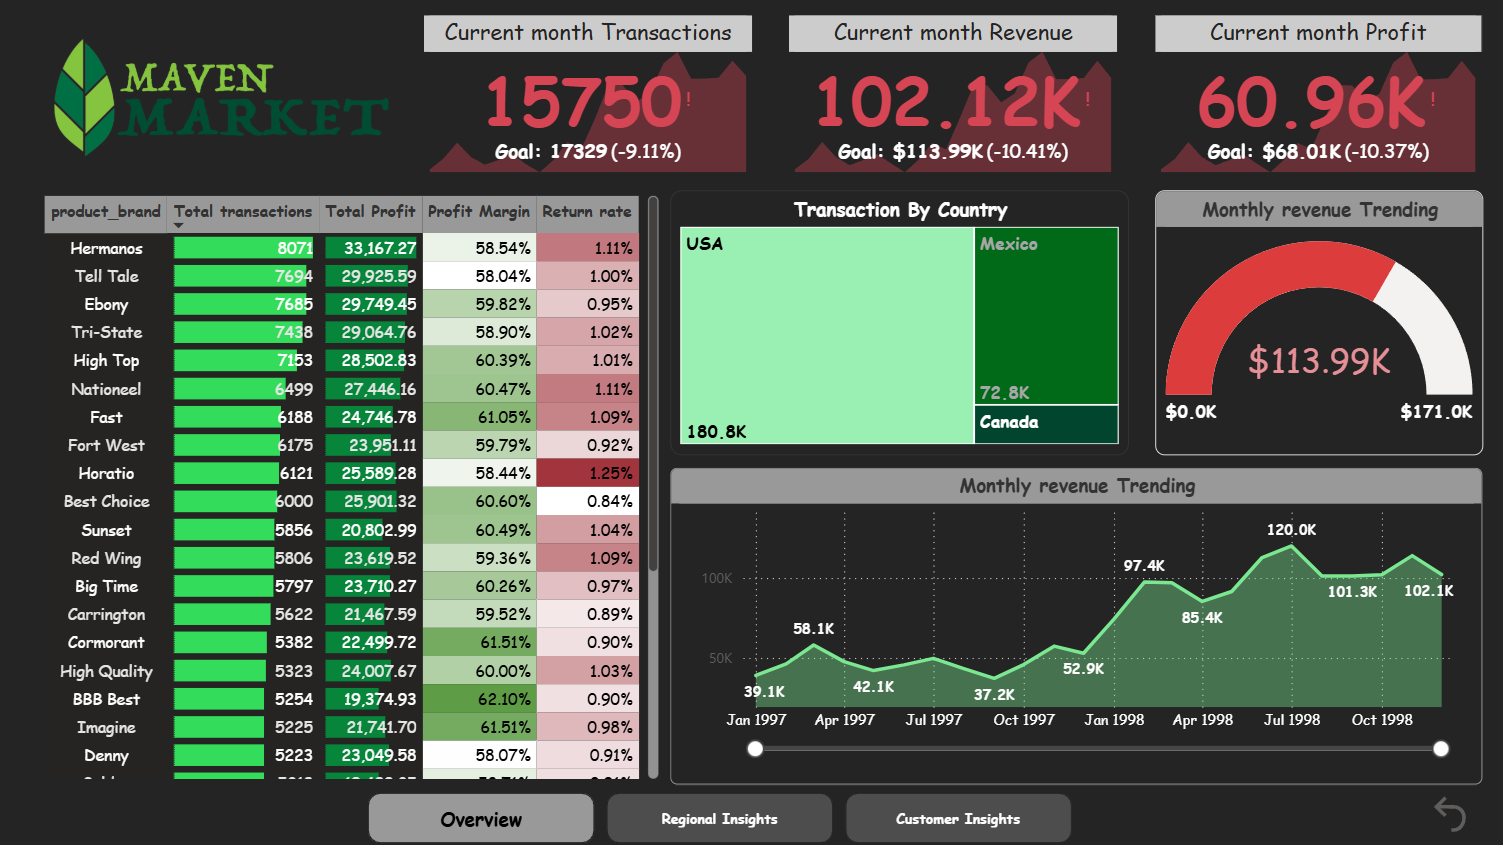

The dashboard page shown, as its layout file describes it:
{"tool":"powerbi","page":{"name":"Overview","canvas":[1280,720],"ordinal":0},"visuals":[{"type":"image","box":[33.8,14.2,307.9,138.8],"z":0},{"type":"kpi","title":"Current month Transactions","fields":{"Indicator":["Measure.Total transactions"],"Goal":["Measure.last month transaction"],"TrendLine":["Calendar.Start of Month"]},"box":[361.3,14.2,279.4,138.8],"z":1000},{"type":"kpi","title":"Current month Profit","fields":{"TrendLine":["Calendar.Start of Month"],"Indicator":["Measure.Total Profit"],"Goal":["Measure.last month profit"]},"box":[984.2,14.2,277.6,138.8],"z":2000},{"type":"kpi","title":"Current month Revenue","fields":{"TrendLine":["Calendar.Start of Month"],"Indicator":["Measure.total revenue"],"Goal":["Measure.last month revenue"]},"box":[672.8,14.2,279.4,138.8],"z":3000},{"type":"pivotTable","title":"Current month Transactions","fields":{"Rows":["Product.product_brand"],"Values":["Measure.Total transactions","Measure.Total Profit","Measure.Profit Margin","Measure.Return rate"]},"box":[33.6,163,532.1,505.8],"z":4000},{"type":"treemap","title":"Transaction By Country","fields":{"Group":["Stores.store_country"],"Values":["Measure.Total transactions"]},"box":[571.7,163,390.7,225.3],"z":5000},{"type":"areaChart","title":"Monthly revenue Trending","fields":{"Y":["Measure.total revenue"],"Category":["Calendar.date.Variation.Date Hierarchy.Year","Calendar.date.Variation.Date Hierarchy.Month","Calendar.date.Variation.Date Hierarchy.Day"]},"box":[571.7,399.1,691.5,269.7],"z":6000},{"type":"gauge","title":"Monthly revenue Trending","fields":{"Y":["Measure.last month revenue"]},"box":[984,163,279.3,225.3],"z":7000},{"type":"actionButton","box":[1214.8,673.8,47.6,40.4],"z":8000},{"type":"pageNavigator","box":[313.8,675,600,43.8],"z":9000}]}

Visuals, with their boxes in screenshot pixels (x1, y1, x2, y2), scaled from the page's 1280x720 canvas onto the 1503x845 screenshot:
image: left=40, top=17, right=401, bottom=180
"Current month Transactions" kpi: left=424, top=17, right=752, bottom=180
"Current month Profit" kpi: left=1156, top=17, right=1482, bottom=180
"Current month Revenue" kpi: left=790, top=17, right=1118, bottom=180
"Current month Transactions" pivotTable: left=39, top=191, right=664, bottom=785
"Transaction By Country" treemap: left=671, top=191, right=1130, bottom=456
"Monthly revenue Trending" areaChart: left=671, top=468, right=1483, bottom=785
"Monthly revenue Trending" gauge: left=1155, top=191, right=1483, bottom=456
actionButton: left=1426, top=791, right=1482, bottom=838
pageNavigator: left=368, top=792, right=1073, bottom=844
